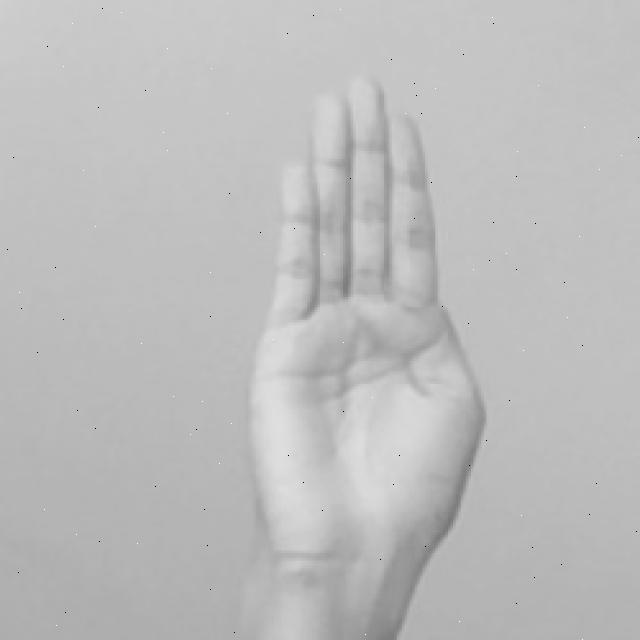B: (241, 74, 489, 640)
